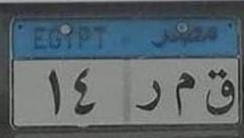1: (40, 64, 65, 118)
4: (71, 64, 97, 117)
meem: (168, 68, 198, 120)
qaaf: (203, 66, 236, 118)
raa: (134, 75, 164, 118)
